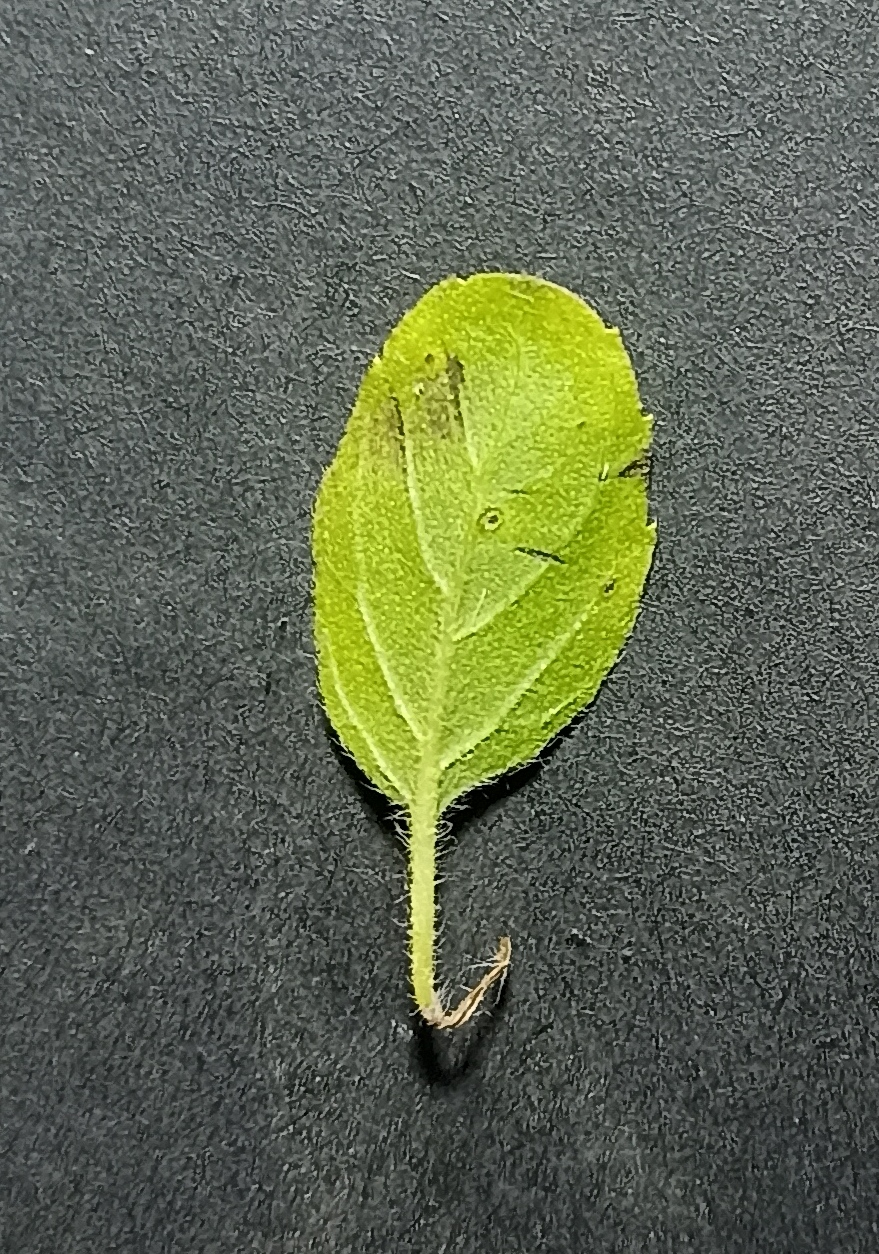Healthy: (289, 273, 676, 842)
